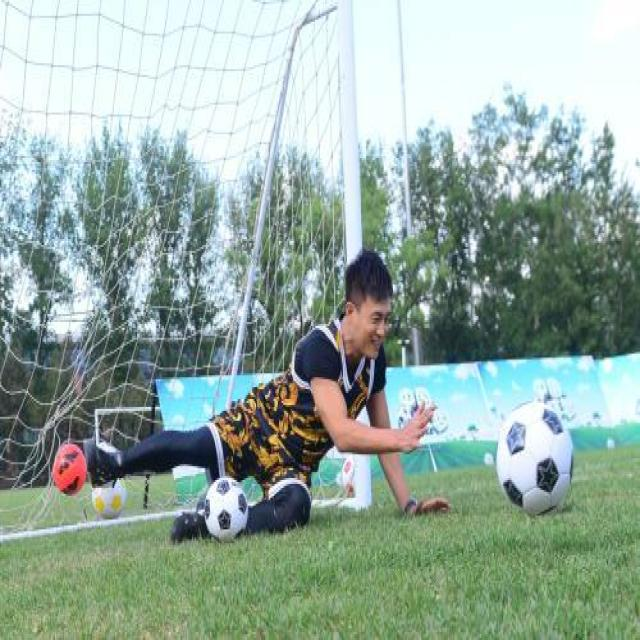fall: (79, 265, 424, 547)
